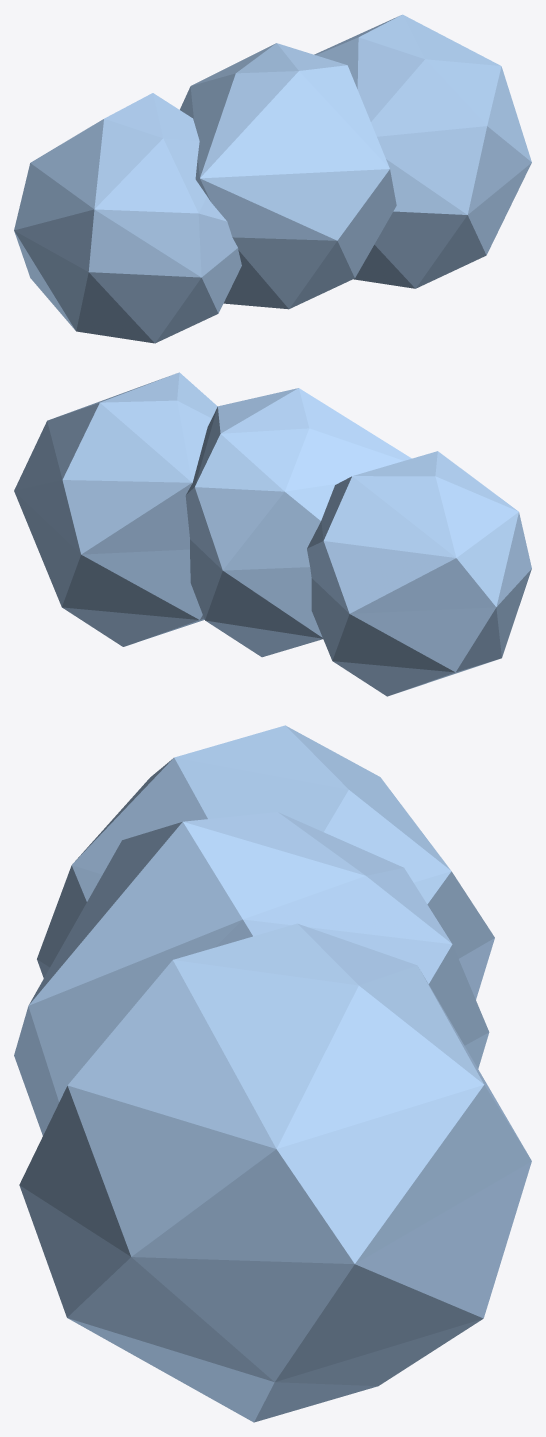
File: mdl_cloud_02.fbx
3 renders of one model, top to bottom at view 1: azimuth 30°, elevation 25°; view 2: azimuth 150°, elevation 25°; view 3: azimuth 270°, elevation 25°, orthographic. The views are drawn at different scales.
Visible parts, largest first — view 1: Icosphere.002; view 2: Icosphere.002; view 3: Icosphere.002.
Part boxes in pixels (x1,y1,x2,y2): Icosphere.002: (14,14,531,343); Icosphere.002: (14,372,531,696); Icosphere.002: (14,725,531,1422).
Size of the model in its own units: 908 by 462 by 468.
